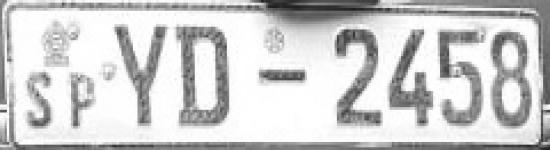-: (256, 63, 311, 91)
2: (330, 19, 385, 134)
4: (385, 19, 436, 134)
5: (436, 22, 488, 132)
8: (489, 26, 535, 134)
D: (174, 20, 234, 133)
P: (65, 68, 99, 132)
S: (21, 65, 60, 133)
Y: (107, 21, 172, 132)
